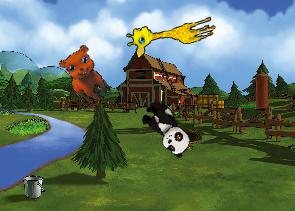bear: (52, 40, 122, 109)
giraffe: (123, 5, 218, 60)
panda: (134, 96, 199, 160)
